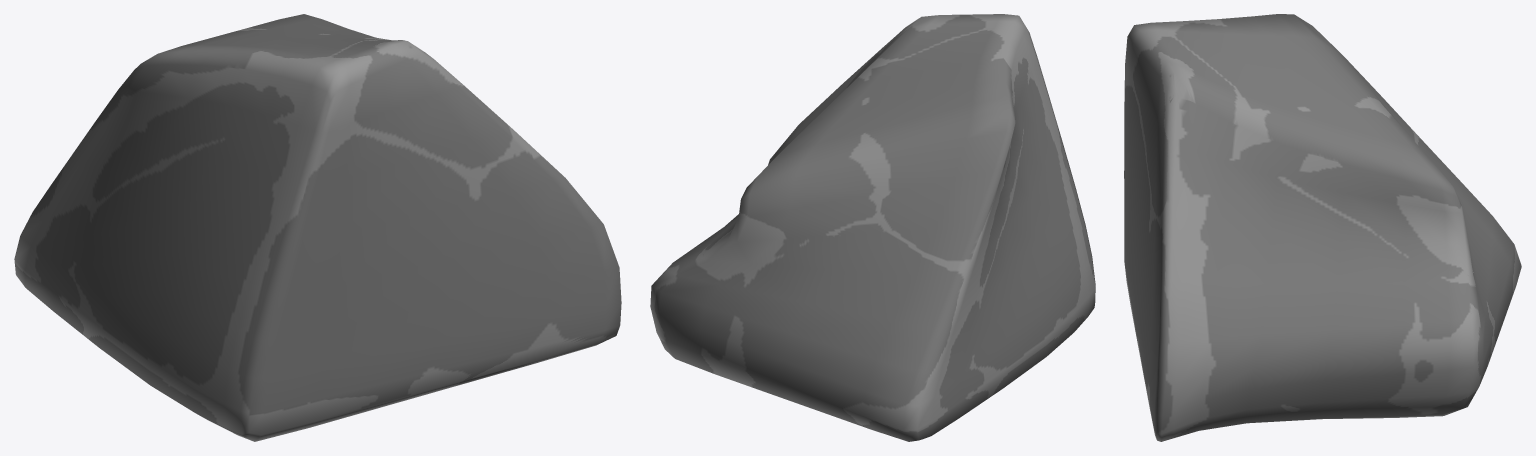
File: CTS_E_PalmRockE.fbx
3 views of the same model, side by side, from view 1: azimuth 30°, elevation 25°; view 2: azimuth 150°, elevation 25°; view 3: azimuth 270°, elevation 25° (orthographic). The views are drawn at different scales.
Visible parts, largest first — view 1: CTS_E_PalmRockE; view 2: CTS_E_PalmRockE; view 3: CTS_E_PalmRockE.
Part boxes in pixels (x1,y1,x2,y2): CTS_E_PalmRockE: (14, 14, 621, 441); CTS_E_PalmRockE: (650, 14, 1095, 441); CTS_E_PalmRockE: (1124, 14, 1521, 441).
Bounding box in the file's own units: 476 × 389 × 467.
